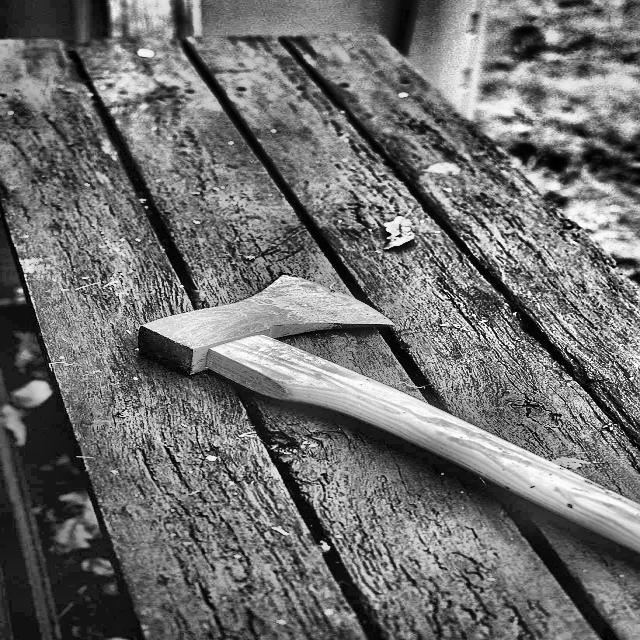kapak: (127, 275, 639, 561)
